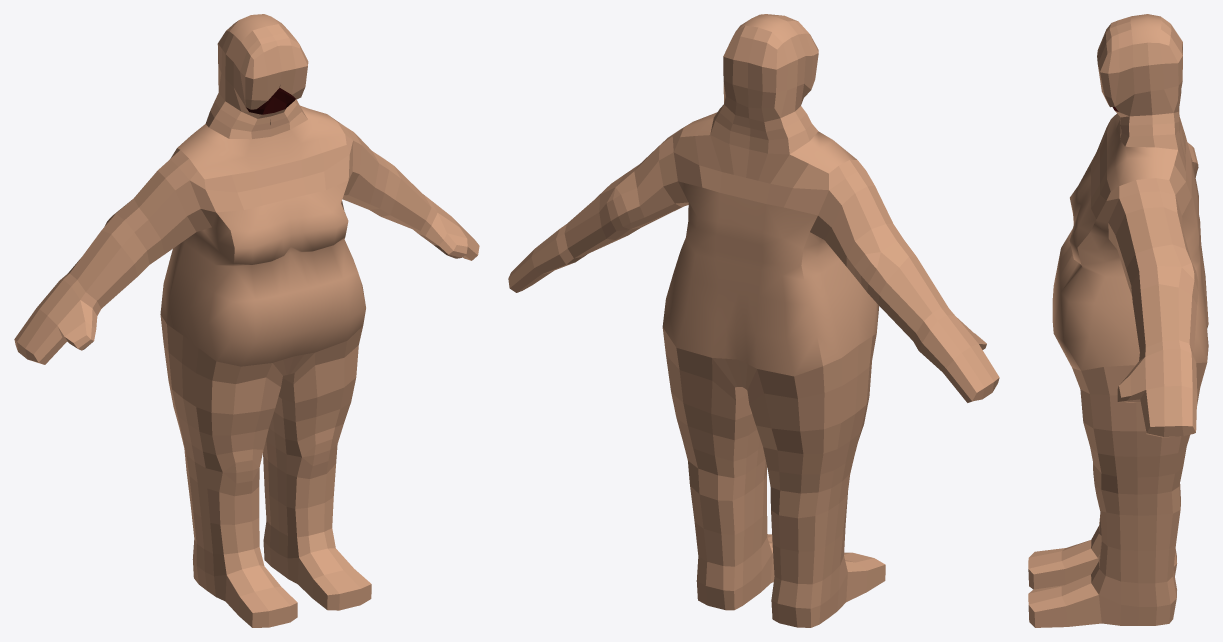
File: Baby.fbx
3 renders of one model, left to right at view 1: azimuth 30°, elevation 25°; view 2: azimuth 150°, elevation 25°; view 3: azimuth 270°, elevation 25°, orthographic. The views are drawn at different scales.
Parts seen in each view (by area): view 1: Box001; view 2: Box001; view 3: Box001.
Boxes of the visible parts, box(x1,y1,x2,y2) form: Box001: box(14, 14, 479, 627); Box001: box(508, 14, 999, 627); Box001: box(1028, 14, 1208, 627).
Size of the model in its own units: 15.88 by 5.3 by 18.81.
